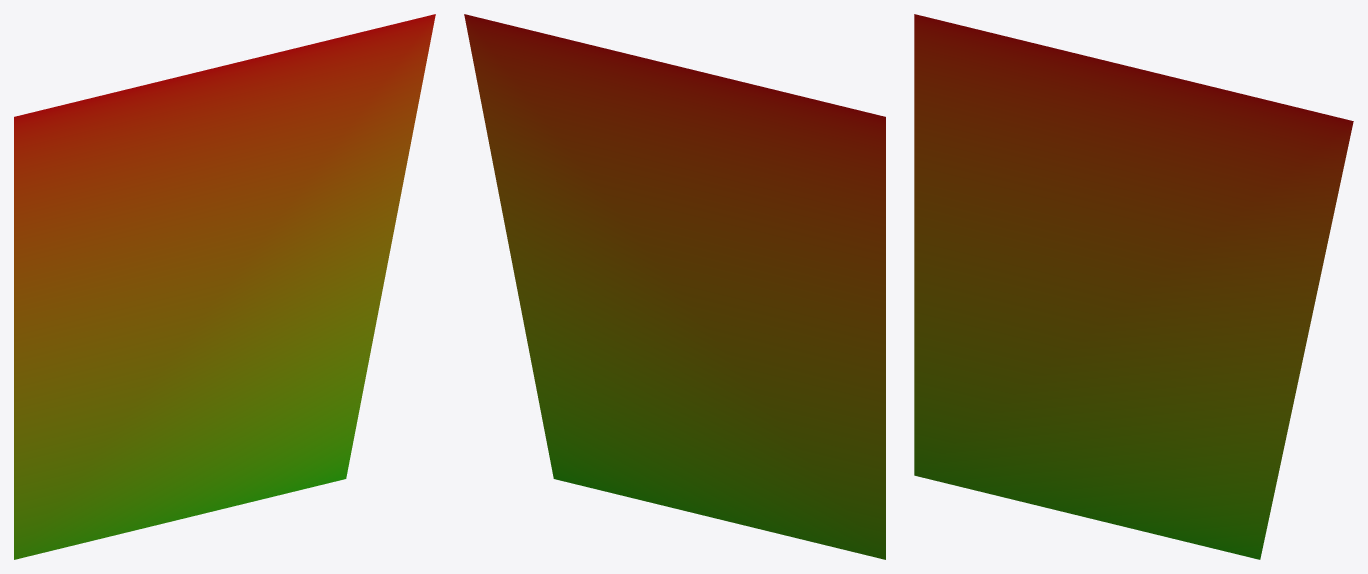
The model's file is Basket Grass_LOD4_Var7_slfpffjr.fbx.
The picture shows the model from 3 angles, left to right: view 1: azimuth 30°, elevation 25°; view 2: azimuth 150°, elevation 25°; view 3: azimuth 330°, elevation 25°; orthographic projection. The views are drawn at different scales.
Visible parts, largest first — view 1: _dd71_Var7_LOD4; view 2: _dd71_Var7_LOD4; view 3: _dd71_Var7_LOD4.
Part boxes in pixels (left/top/right/bottom): _dd71_Var7_LOD4: left=14, top=14, right=435, bottom=559; _dd71_Var7_LOD4: left=464, top=14, right=885, bottom=559; _dd71_Var7_LOD4: left=914, top=14, right=1353, bottom=559.
Bounding box in the file's own units: 49 × 49.19 × 1.19e-06.
